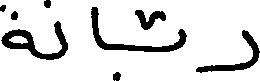X: (196, 25, 259, 77), (0, 0, 31, 58), (56, 16, 66, 63), (93, 2, 100, 52), (179, 24, 185, 52)
